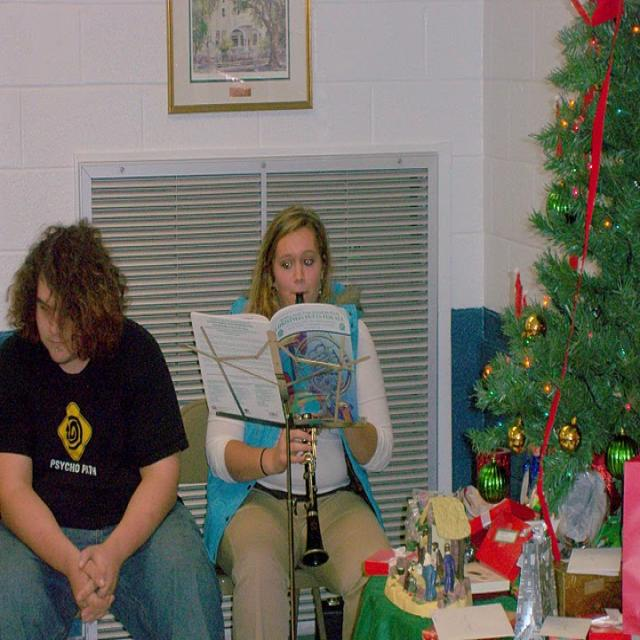clarinet: (295, 291, 331, 572)
